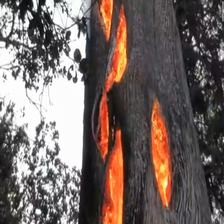fire: (92, 6, 190, 224)
